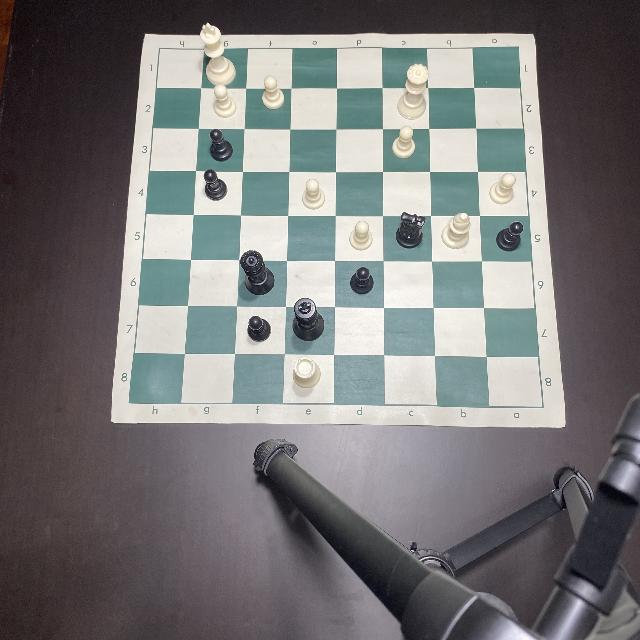black-king: (294, 298, 324, 342)
black-knight: (396, 212, 426, 248)
black-pawn: (495, 222, 523, 250), (208, 130, 234, 160), (245, 315, 272, 343), (204, 169, 226, 199), (351, 266, 374, 294)
black-queen: (240, 250, 276, 296)
board: (111, 34, 566, 430)
white-bishop: (442, 212, 471, 248)
white-king: (200, 22, 237, 86)
white-pawn: (258, 77, 286, 109), (212, 84, 238, 118), (300, 178, 326, 210), (490, 173, 516, 204), (392, 126, 416, 158), (350, 220, 372, 250)
white-queen: (398, 64, 427, 118)
white-rook: (293, 358, 321, 388)
